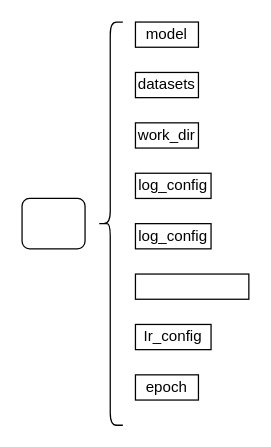
Image size: 271x447. Some labels were removed from this diagram. The shapes that lost their labels are listed below. From the top down, each one's box as (x1, y1, x2, y2) in pixels, then its label:
(21, 197, 85, 249): config
(134, 273, 249, 299): optimizer_config
